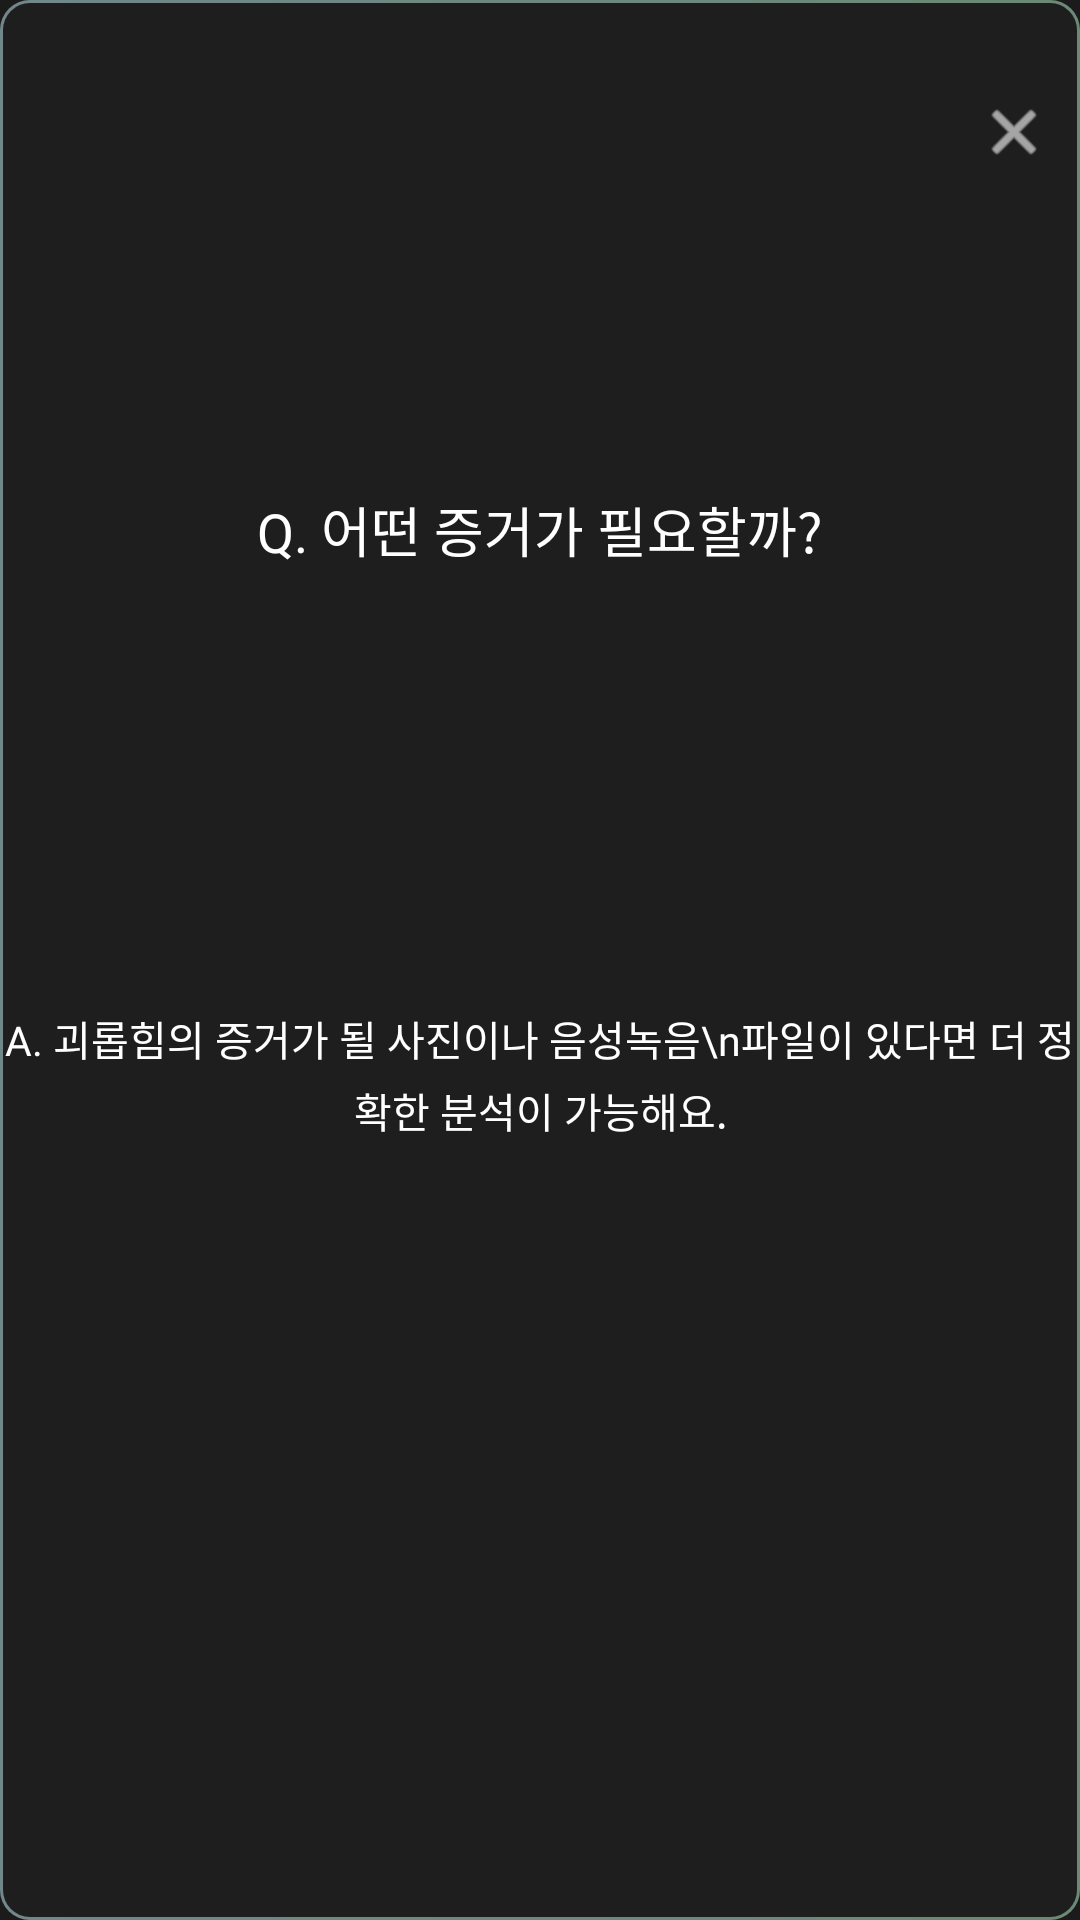

Icon click points for this 1080 × 1920 phone screenshot, format point (x, y):
close clear cancel: point (1014, 132)
